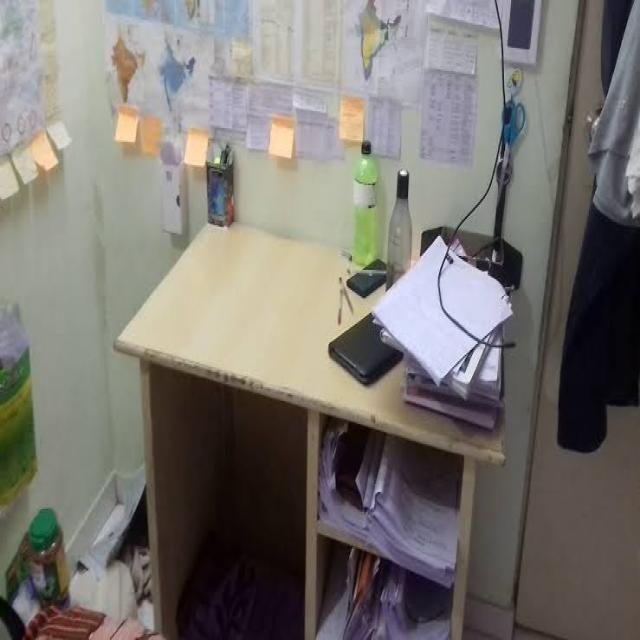bottle: (349, 132, 380, 262), (388, 166, 414, 281)
table: (113, 209, 510, 637)
